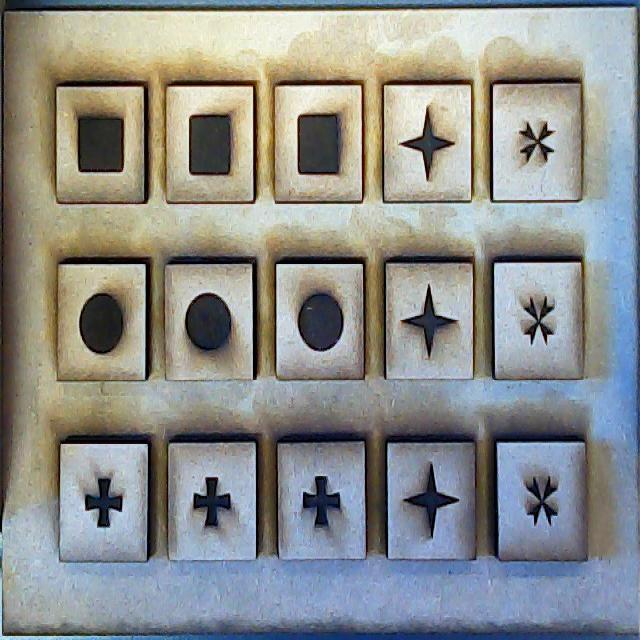circle: (276, 260, 366, 380), (166, 263, 256, 382), (56, 264, 148, 379)
maltese: (493, 436, 590, 564), (494, 258, 586, 382), (493, 81, 583, 202)
square: (55, 81, 145, 202), (164, 85, 254, 204), (274, 86, 364, 203)
star: (388, 440, 477, 563), (383, 85, 471, 203), (387, 264, 473, 382)
temple: (167, 442, 259, 560), (279, 440, 369, 559), (57, 444, 146, 563)
